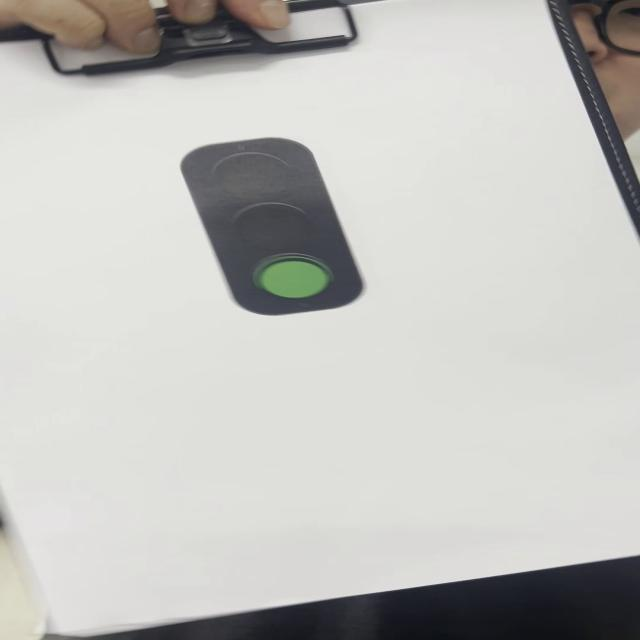green: (176, 139, 364, 316)
